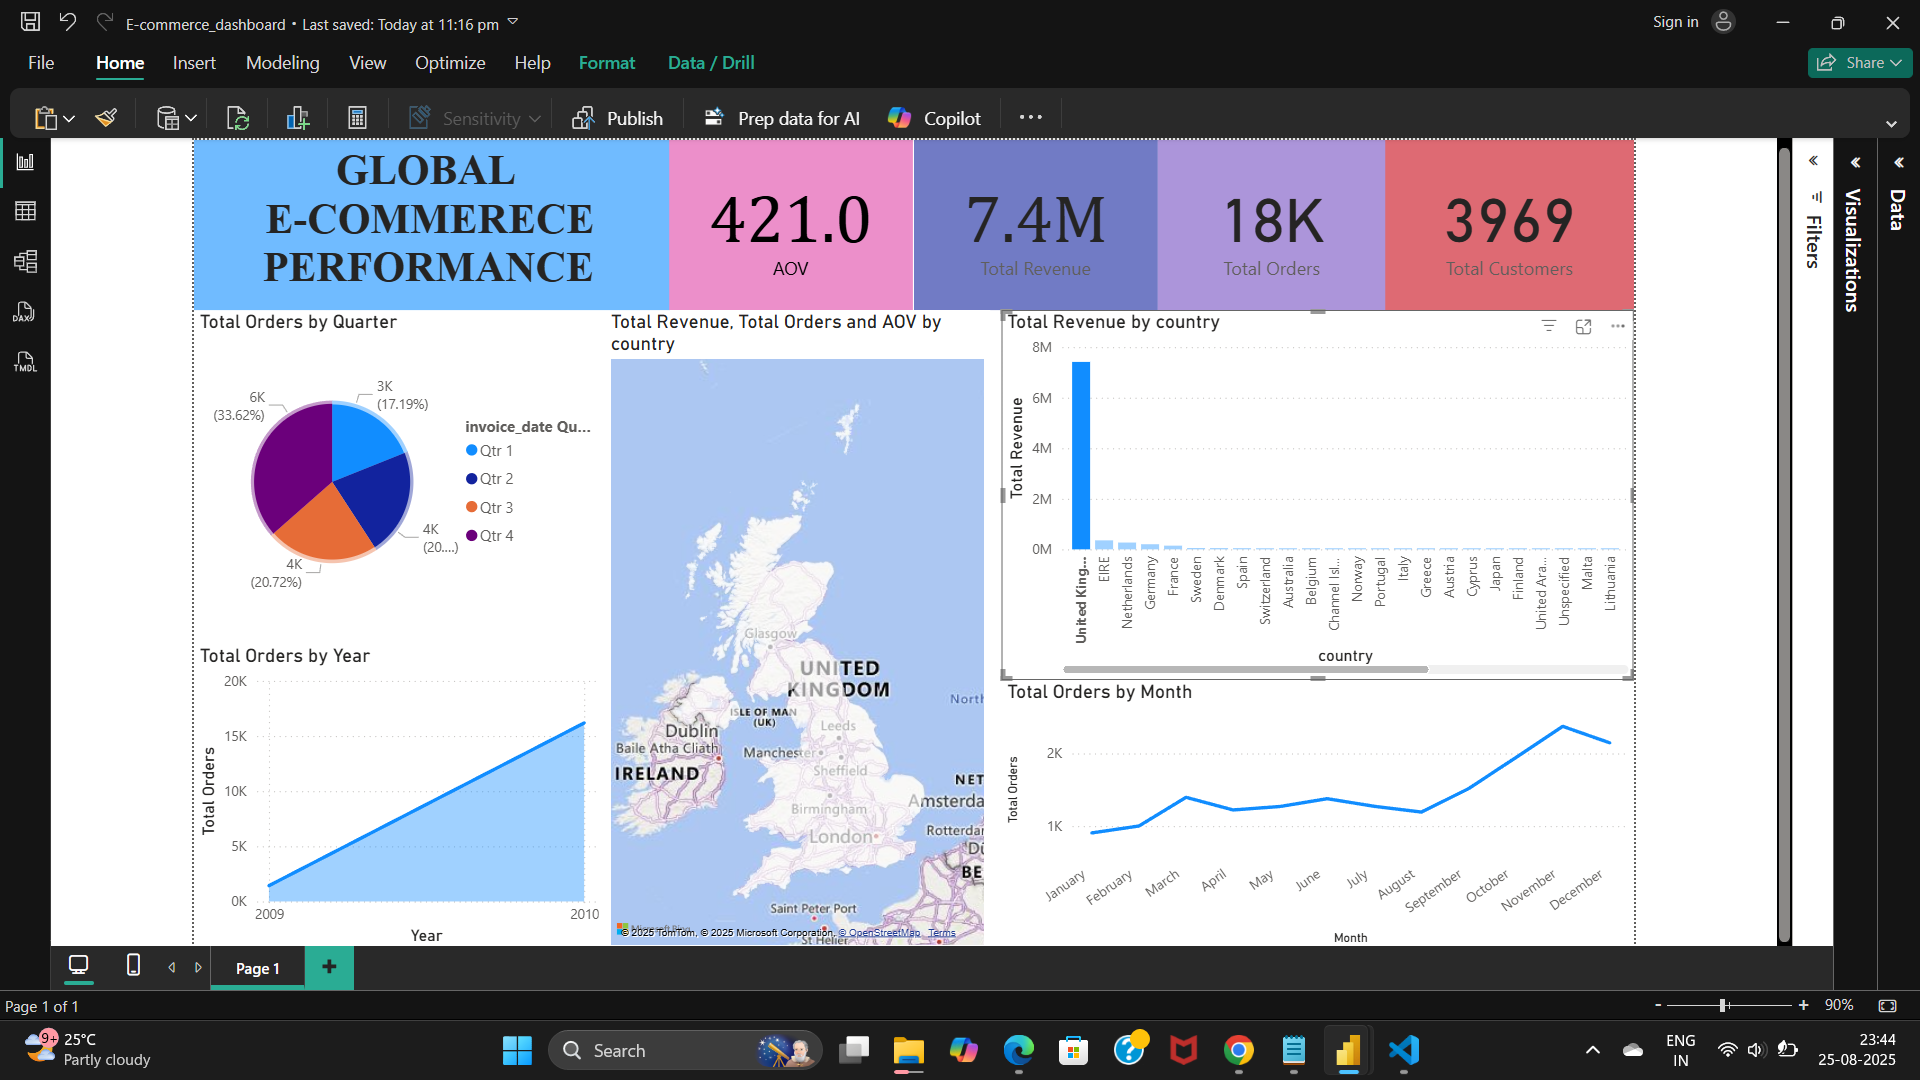

This screenshot's page, from the dashboard's own definition file:
{"tool":"powerbi","page":{"name":"Page 1","canvas":[1280,720],"ordinal":0},"visuals":[{"type":"card","fields":{"Values":["online_retail_cleaned.Total Revenue"]},"box":[639.5,0,216.8,150.9],"z":0},{"type":"card","fields":{"Values":["online_retail_cleaned.Total Orders"]},"box":[856.3,0,203.1,150.9],"z":1000},{"type":"card","fields":{"Values":["online_retail_cleaned.Total Customers"]},"box":[1059.4,0,220.9,150.9],"z":2000},{"type":"card","fields":{"Values":["online_retail_cleaned.AOV"]},"box":[422.6,0,216.8,150.9],"z":3000},{"type":"lineChart","fields":{"Category":["online_retail_cleaned.invoice_date.Variation.Date Hierarchy.Month"],"Y":["online_retail_cleaned.Total Orders"]},"box":[717.7,480.3,562.6,240.1],"z":4000},{"type":"pieChart","fields":{"Y":["online_retail_cleaned.Total Orders"],"Category":["online_retail_cleaned.invoice_date.Variation.Date Hierarchy.Quarter"]},"box":[0,150.9,365,286.8],"z":5000},{"type":"columnChart","fields":{"Y":["online_retail_cleaned.Total Revenue"],"Category":["online_retail_cleaned.country"]},"box":[717.7,150.9,562.6,329.3],"z":6000},{"type":"areaChart","fields":{"Category":["online_retail_cleaned.invoice_date.Variation.Date Hierarchy.Year","online_retail_cleaned.invoice_date.Variation.Date Hierarchy.Quarter","online_retail_cleaned.invoice_date.Variation.Date Hierarchy.Month","online_retail_cleaned.invoice_date.Variation.Date Hierarchy.Day"],"Y":["online_retail_cleaned.Total Orders"]},"box":[0,447.3,365,273.1],"z":7000},{"type":"filledMap","fields":{"Category":["online_retail_cleaned.country"]},"box":[365,150.9,341.7,569.5],"z":8000},{"type":"textbox","box":[0,0,422.6,150.9],"z":9000}]}

Visuals, with their boxes on the page's 1280x720 design canvas (x1, y1, x2, y2). These are canvas units, not pixel positions in the 1920x1080 screenshot, which may show the page scaled, cropped or inside an application window:
card - online_retail_cleaned.Total Revenue: (left=640, top=0, right=856, bottom=151)
card - online_retail_cleaned.Total Orders: (left=856, top=0, right=1059, bottom=151)
card - online_retail_cleaned.Total Customers: (left=1059, top=0, right=1280, bottom=151)
card - online_retail_cleaned.AOV: (left=423, top=0, right=639, bottom=151)
lineChart - online_retail_cleaned.invoice_date.Variation.Date Hierarchy.Month x online_retail_cleaned.Total Orders: (left=718, top=480, right=1280, bottom=720)
pieChart - online_retail_cleaned.Total Orders x online_retail_cleaned.invoice_date.Variation.Date Hierarchy.Quarter: (left=0, top=151, right=365, bottom=438)
columnChart - online_retail_cleaned.Total Revenue x online_retail_cleaned.country: (left=718, top=151, right=1280, bottom=480)
areaChart - online_retail_cleaned.invoice_date.Variation.Date Hierarchy.Year x online_retail_cleaned.invoice_date.Variation.Date Hierarchy.Quarter: (left=0, top=447, right=365, bottom=720)
filledMap - online_retail_cleaned.country: (left=365, top=151, right=707, bottom=720)
textbox: (left=0, top=0, right=423, bottom=151)
